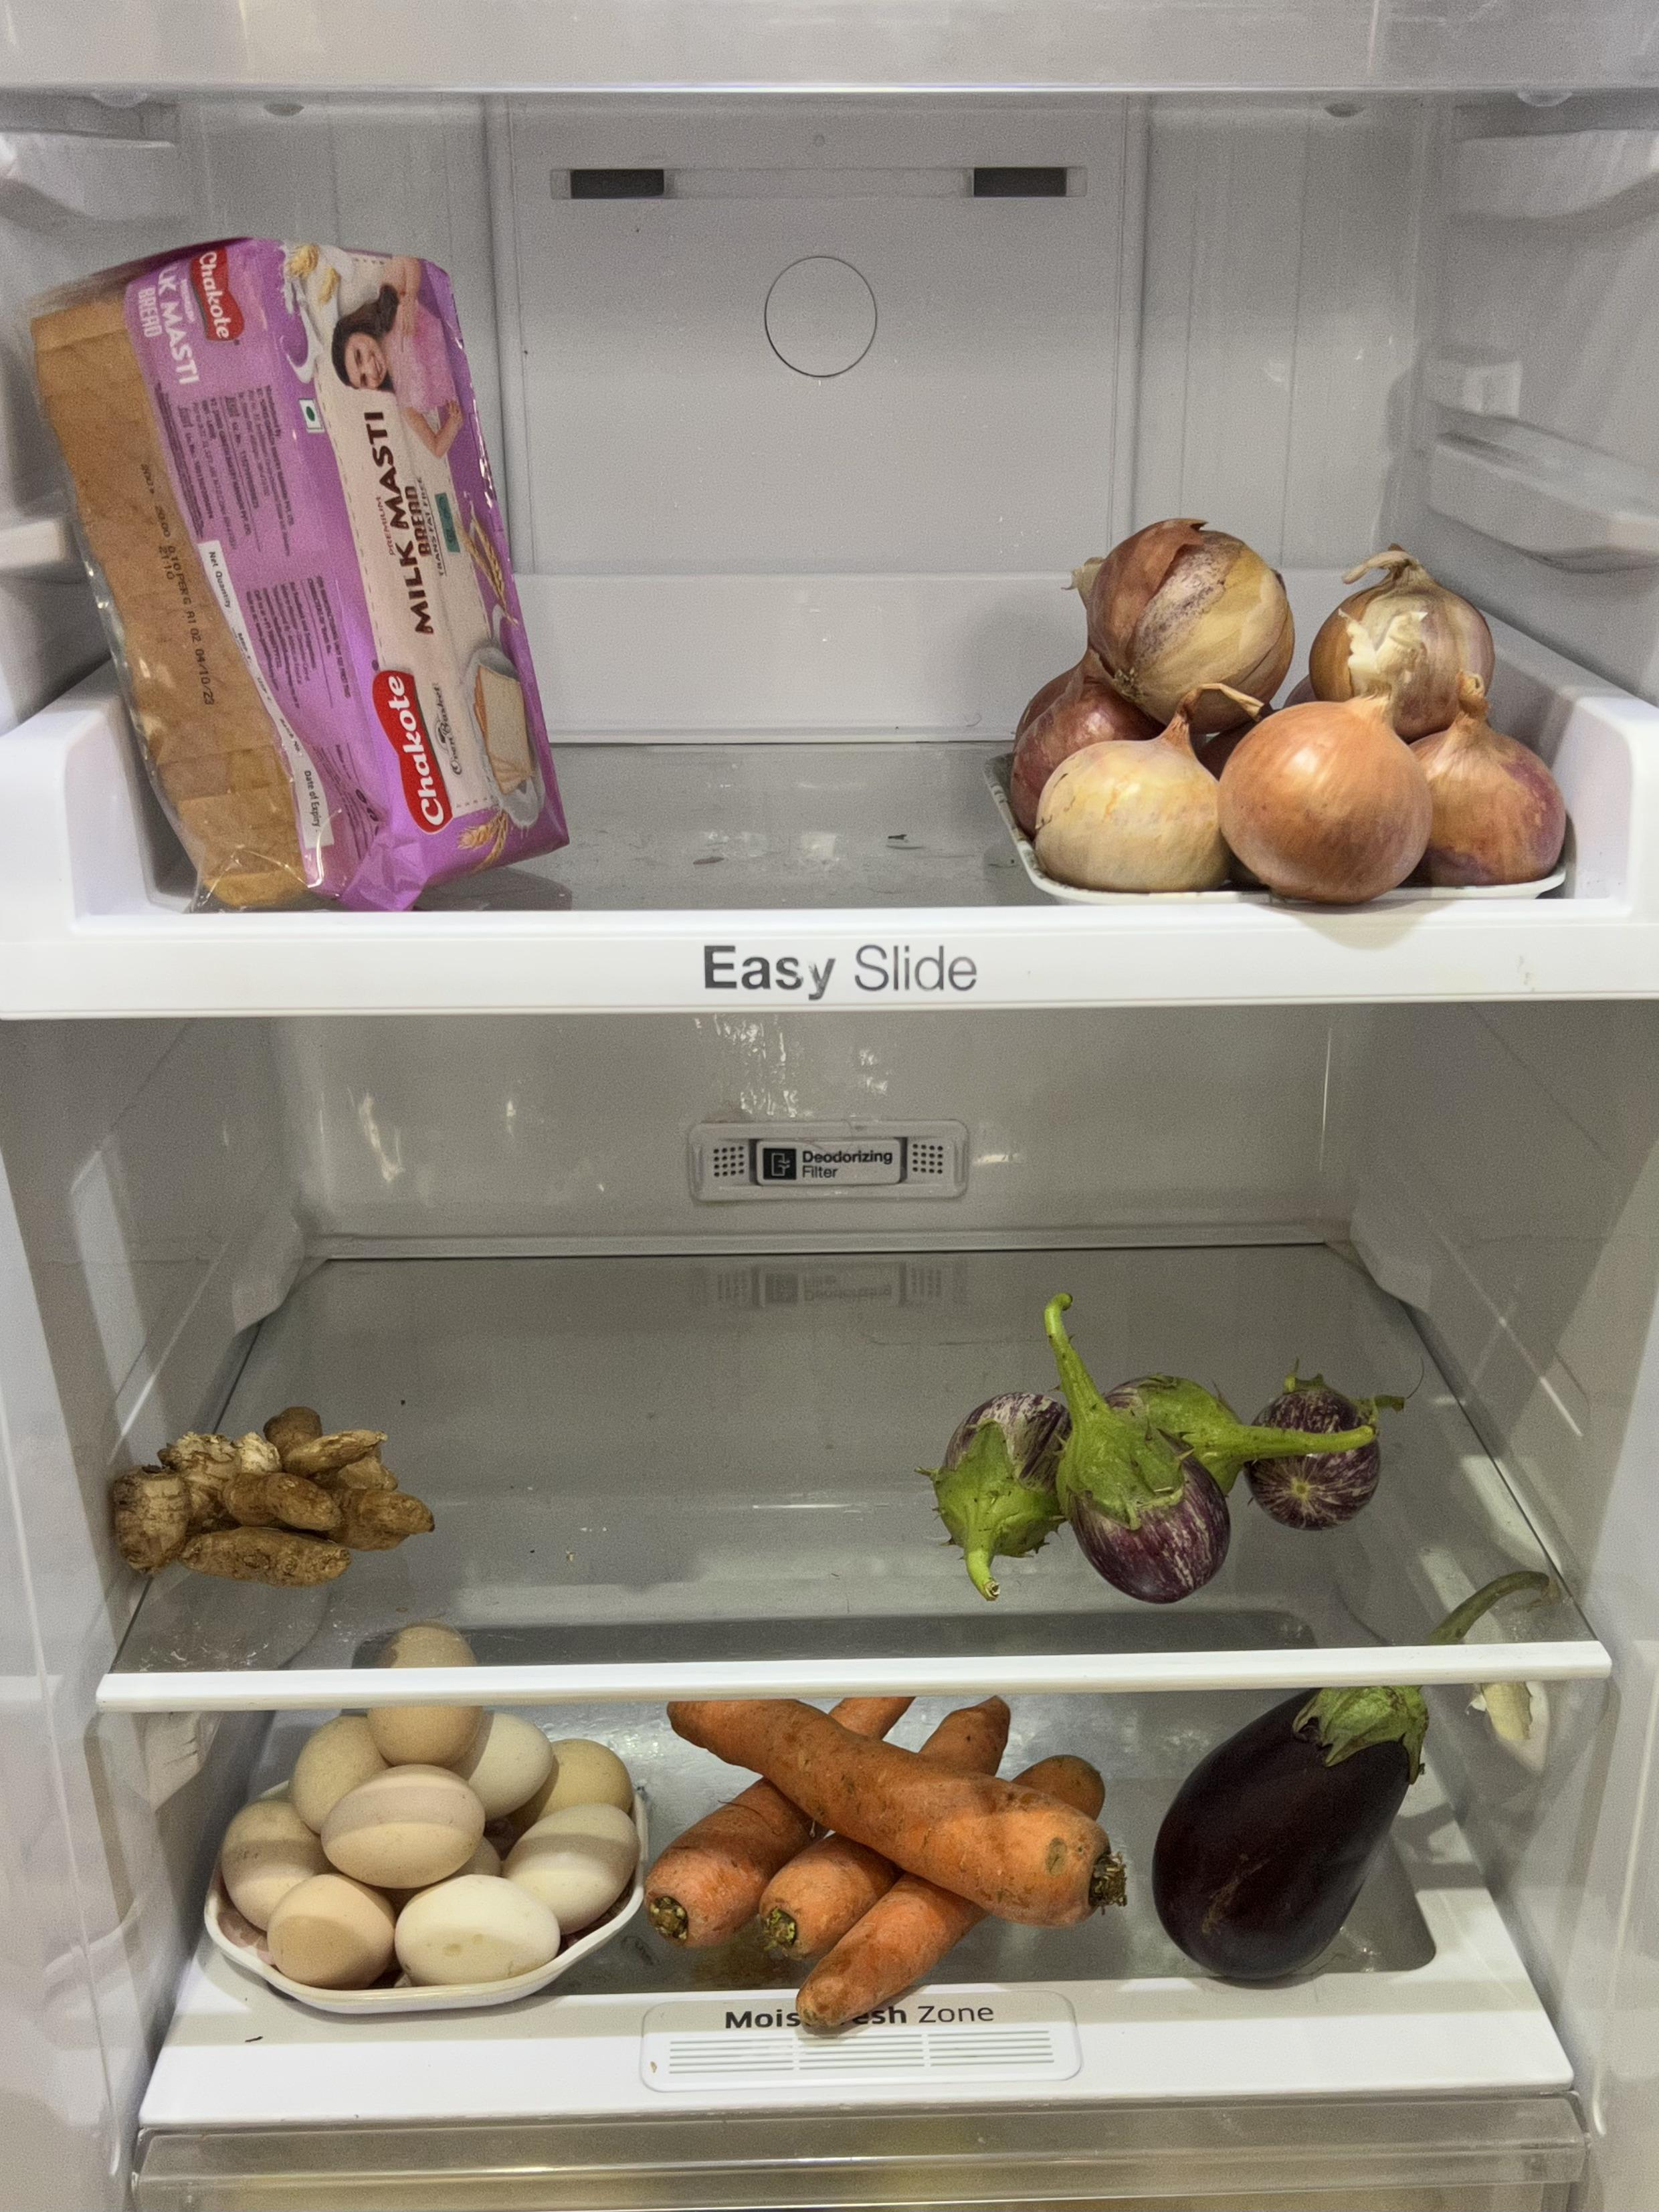bread: (19, 230, 580, 904)
bringal: (932, 1346, 1392, 1608)
carrots: (659, 1695, 1126, 2038), (1143, 1676, 1443, 1991)
egg: (199, 1710, 641, 2003)
ginger: (94, 1397, 439, 1590)
onion: (1002, 516, 1565, 892)
